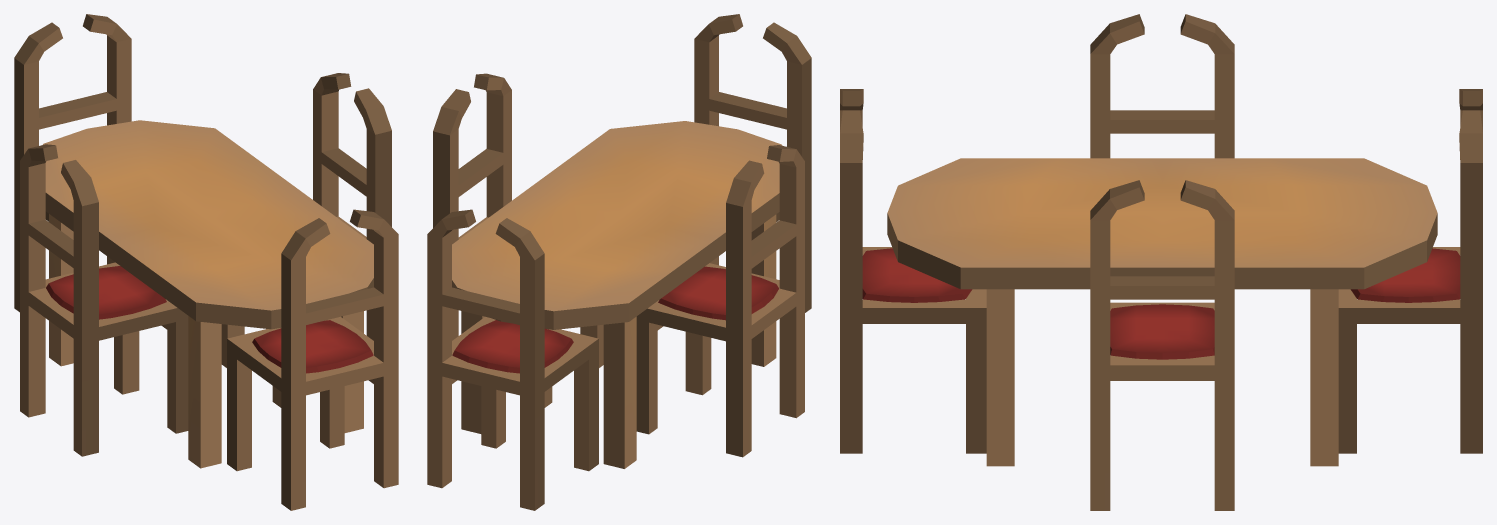
Rendered from Cozinha_05.fbx.
The picture shows the model from 3 angles, left to right: view 1: azimuth 30°, elevation 25°; view 2: azimuth 150°, elevation 25°; view 3: azimuth 270°, elevation 25°; orthographic projection. The views are drawn at different scales.
Parts seen in each view (by area): view 1: Plane.019, Plane.023, Plane.021, Plane.020, Plane.022; view 2: Plane.019, Plane.022, Plane.021, Plane.023, Plane.020; view 3: Plane.019, Plane.020, Plane.023, Plane.022, Plane.021.
Part boxes in pixels (x1,y1,x2,y2): Plane.019: (43, 120, 373, 468); Plane.023: (227, 209, 398, 510); Plane.021: (20, 144, 188, 456); Plane.020: (221, 73, 391, 407); Plane.022: (14, 14, 167, 329); Plane.019: (452, 121, 782, 468); Plane.022: (427, 209, 598, 510); Plane.021: (636, 145, 804, 457); Plane.023: (657, 14, 811, 330); Plane.020: (433, 73, 603, 407); Plane.019: (887, 158, 1437, 466); Plane.020: (1090, 180, 1234, 510); Plane.023: (840, 89, 986, 453); Plane.022: (1338, 89, 1482, 453); Plane.021: (1090, 14, 1234, 158).
Bounding box in the file's own units: 322 × 275 × 497.
